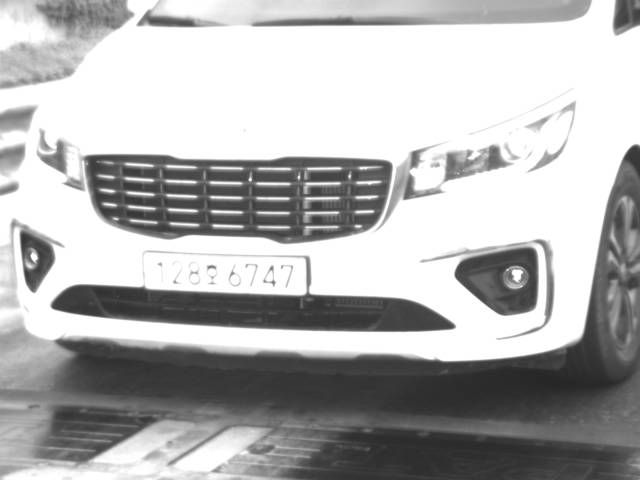car: (9, 1, 638, 389)
plate: (142, 248, 310, 301)
